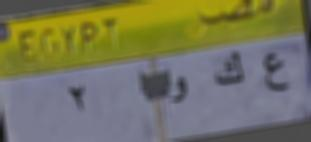2: (65, 82, 90, 116)
ain: (260, 47, 290, 98)
kaaf: (206, 47, 248, 92)
waw: (166, 76, 190, 106)
